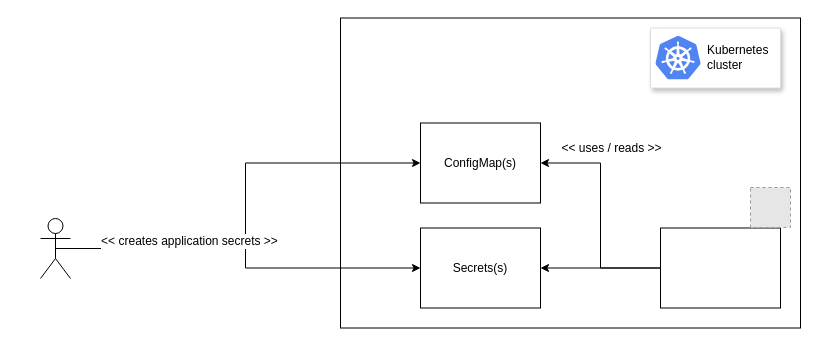
Image size: 818x345. Some labels were removed from this diagram. Grey dashed boxes stand in for pictures. The centre of each missing label's shape, as x and y in pixels:
"Application Pods" belongs at point 720,267.
"DevOps Team" belongs at point 55,248.
